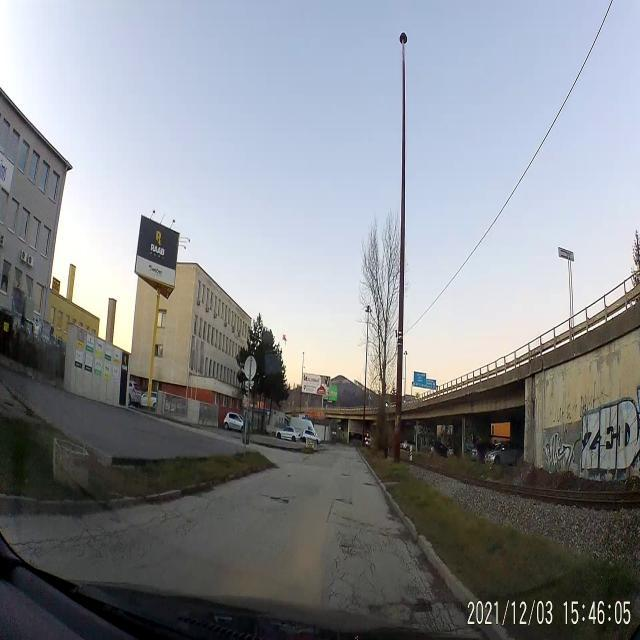Pothole: (368, 597, 444, 633), (331, 492, 356, 512), (265, 494, 290, 508), (360, 476, 378, 489), (338, 469, 352, 481), (282, 472, 297, 480), (355, 460, 363, 464)
